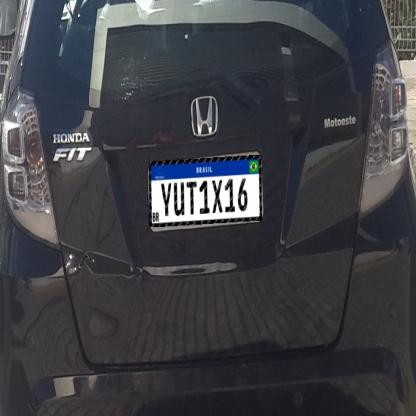PlacaM: (149, 155, 262, 227)
